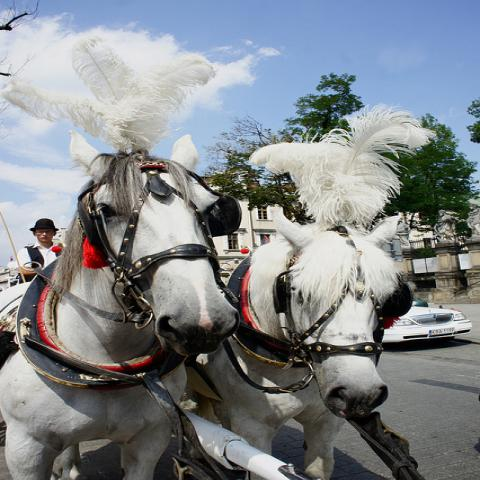car: (380, 300, 474, 344)
